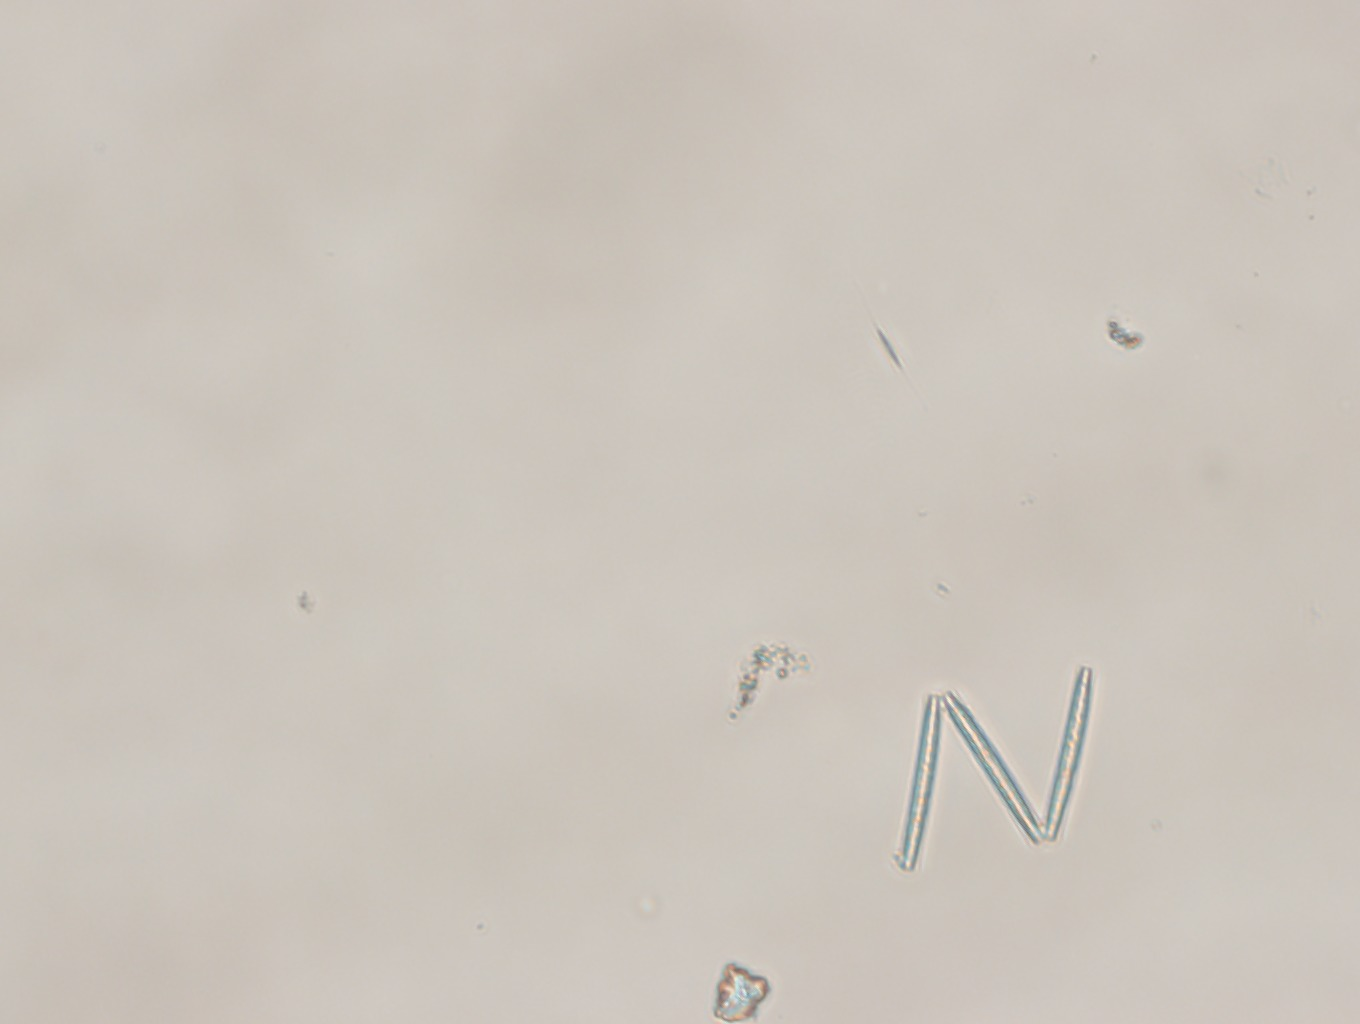thalassionema nitzschioides: (894, 662, 1103, 873)
